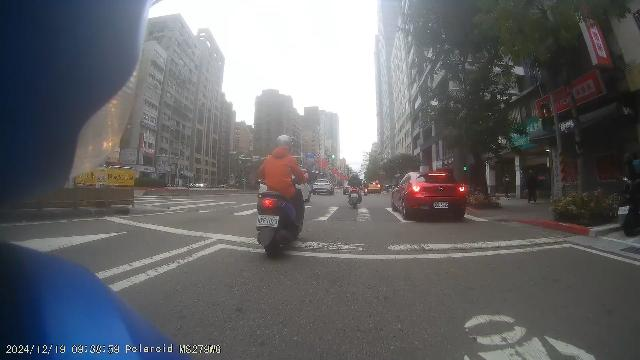plate: (434, 202, 448, 208)
